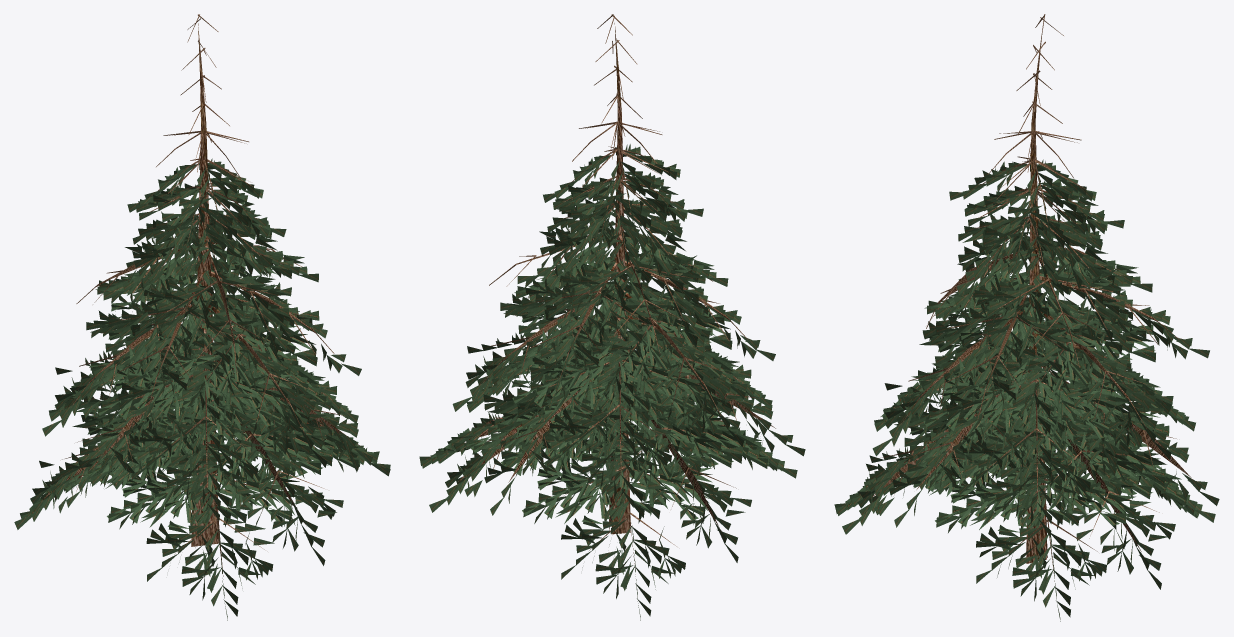
Rendered from pine_7.obj.
3 renders of one model, left to right at view 1: azimuth 30°, elevation 25°; view 2: azimuth 150°, elevation 25°; view 3: azimuth 270°, elevation 25°, orthographic. The views are drawn at different scales.
Parts seen in each view (by area): view 1: pine_0.001_nadeln.001, pine_0.001_ast1a.001, pine_0.001_QT_branch.001; view 2: pine_0.001_nadeln.001, pine_0.001_ast1a.001, pine_0.001_QT_branch.001; view 3: pine_0.001_nadeln.001, pine_0.001_ast1a.001, pine_0.001_QT_branch.001.
Boxes of the visible parts, x1=… form: pine_0.001_nadeln.001: x1=14, y1=158, x2=390, y2=620; pine_0.001_ast1a.001: x1=43, y1=14, x2=361, y2=579; pine_0.001_QT_branch.001: x1=191, y1=23, x2=219, y2=546; pine_0.001_nadeln.001: x1=419, y1=144, x2=805, y2=620; pine_0.001_ast1a.001: x1=458, y1=14, x2=775, y2=574; pine_0.001_QT_branch.001: x1=609, y1=23, x2=630, y2=534; pine_0.001_nadeln.001: x1=834, y1=159, x2=1219, y2=621; pine_0.001_ast1a.001: x1=870, y1=14, x2=1191, y2=581; pine_0.001_QT_branch.001: x1=1026, y1=37, x2=1047, y2=563.
Size of the model in its own units: 3.9 by 5.68 by 3.57.
3 materials, 3 textured.
